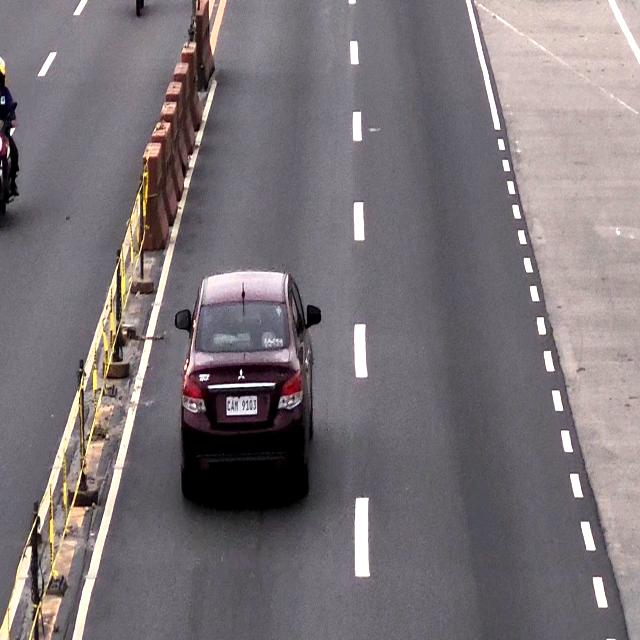Car: (183, 274, 310, 486)
License-Plate: (225, 394, 259, 414)
